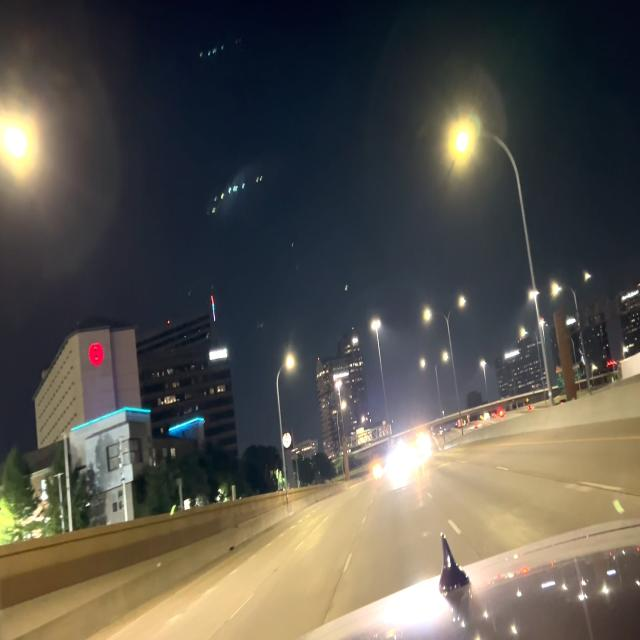back-of-sign: (356, 426, 373, 448), (377, 419, 393, 441)
